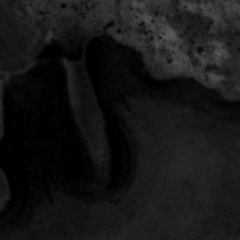Vegetation: (130, 7, 172, 50), (151, 43, 194, 74), (199, 44, 229, 83), (186, 1, 240, 20)
